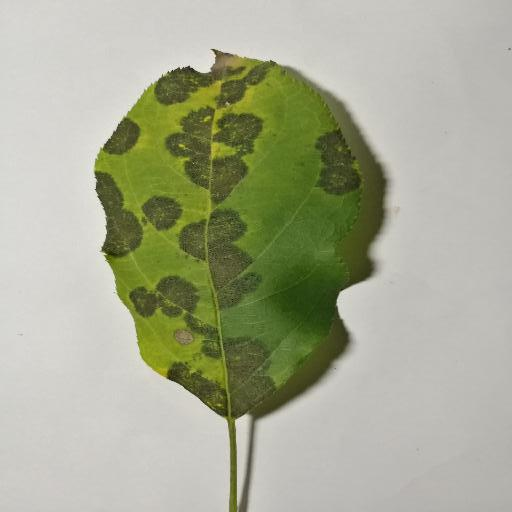Brown_Spot: (70, 31, 402, 418)
